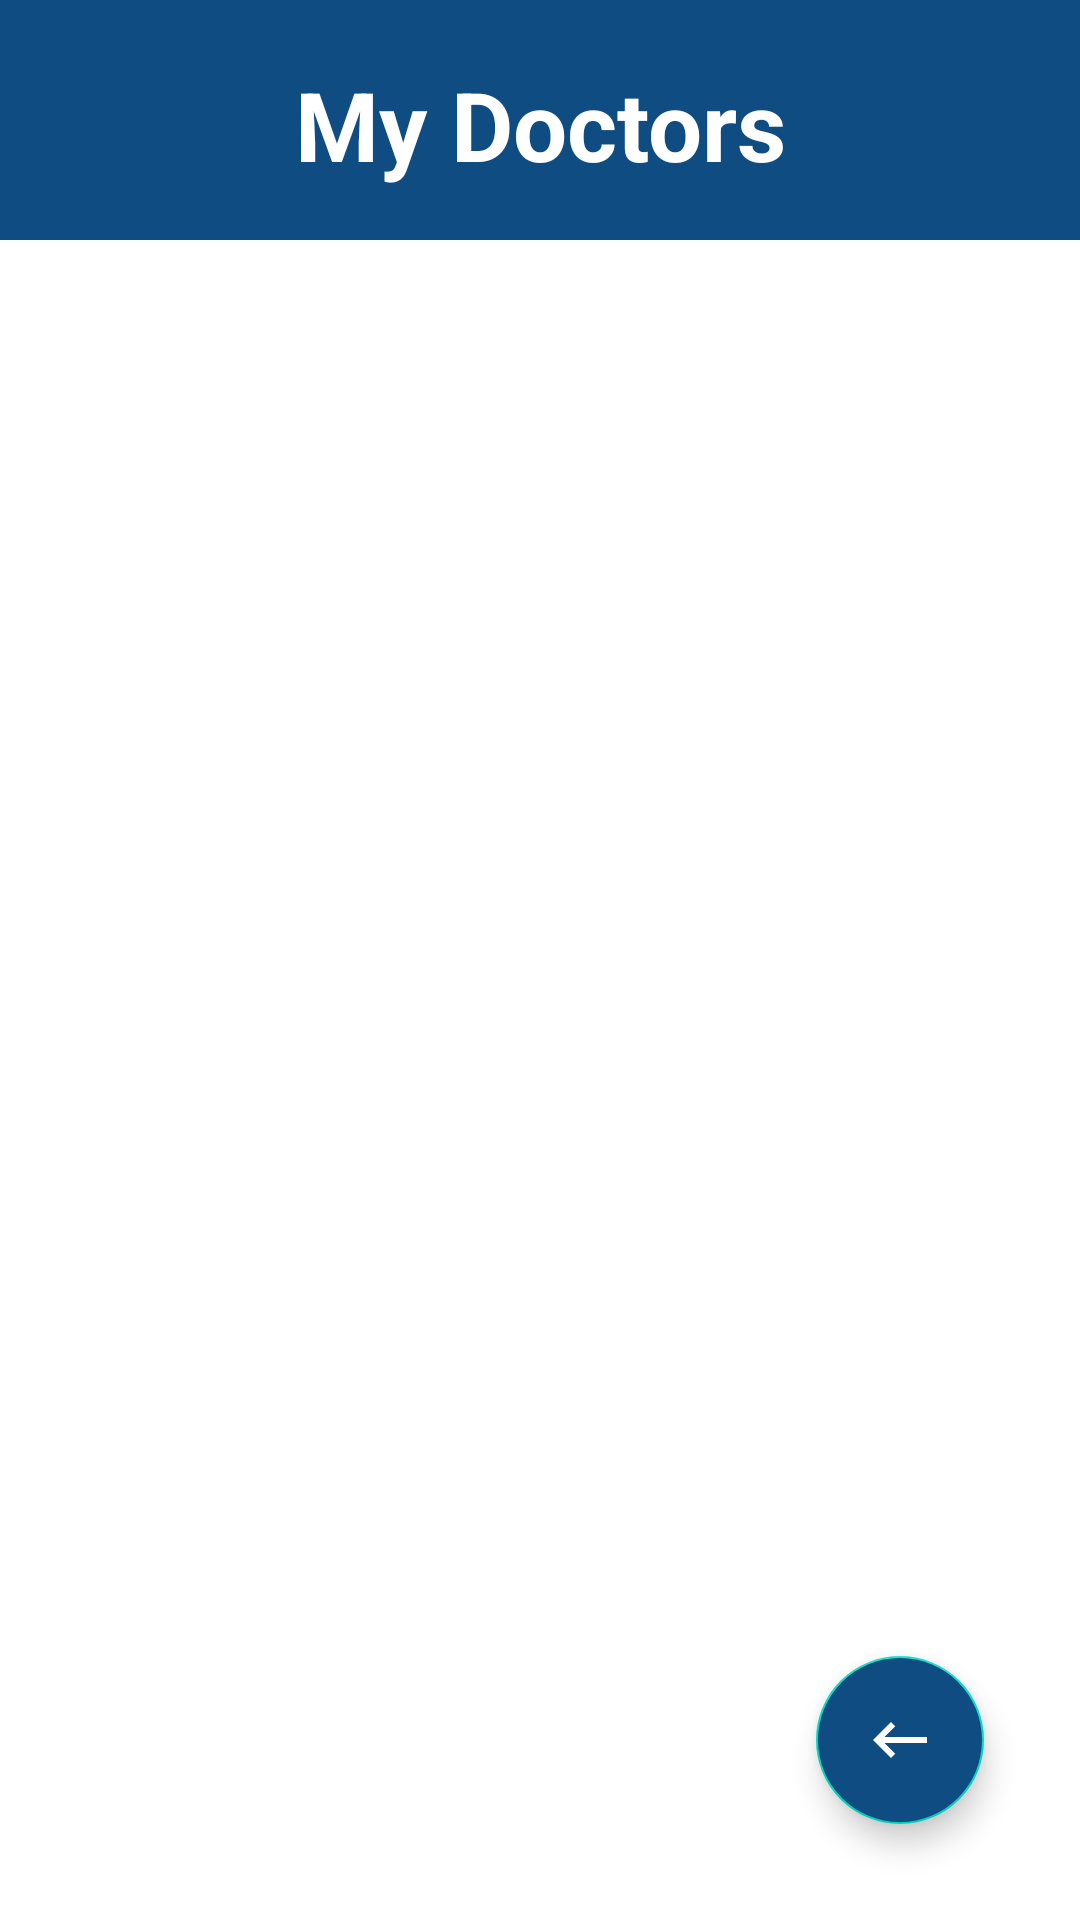

Named icons in this screenshot (1080 × 1920) and their centers, (x,y):
back: (900,1740)
